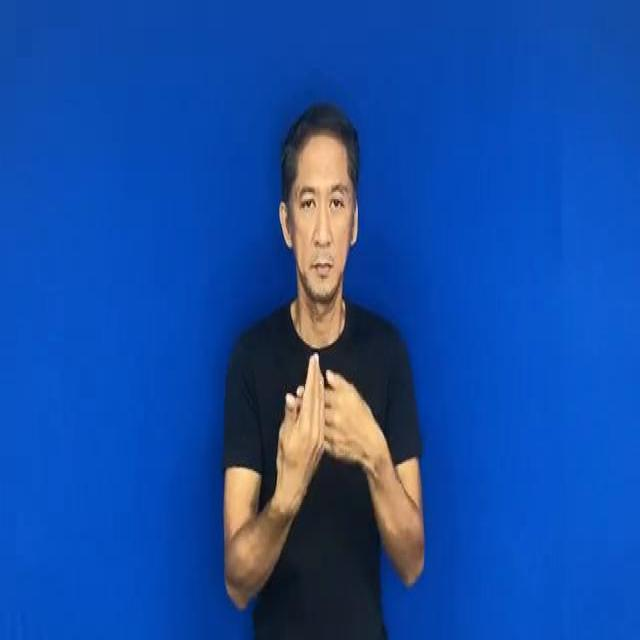bread: (272, 363, 381, 499)
